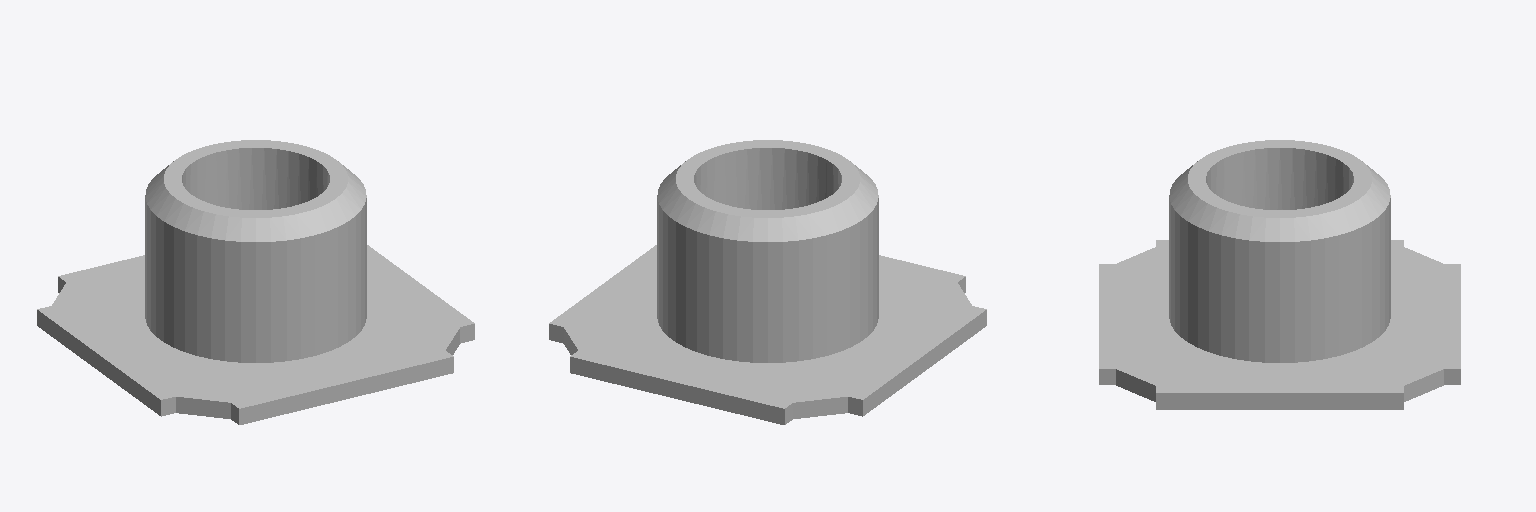
File: Cube 1x1 V5_Objective Mount.obj
The picture shows the model from 3 angles: view 1: azimuth 30°, elevation 25°; view 2: azimuth 150°, elevation 25°; view 3: azimuth 270°, elevation 25°; orthographic projection.
Visible parts, largest first — view 1: Solid1:34; view 2: Solid1:34; view 3: Solid1:34.
Boxes of the visible parts, <box> form: Solid1:34: <box>37,140,474,424</box>; Solid1:34: <box>549,140,986,424</box>; Solid1:34: <box>1099,140,1460,409</box>.
Size of the model in its own units: 49.65 by 23.25 by 49.65.